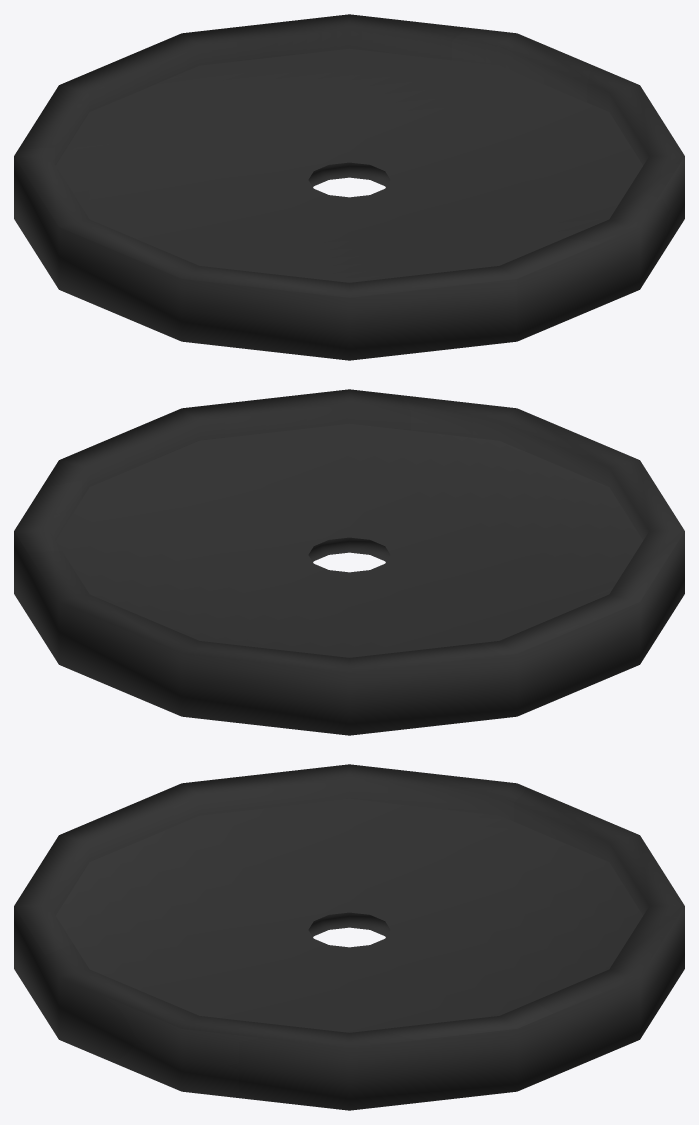
The model's file is BarbellPlateSingle.glb.
The picture shows the model from 3 angles, top to bottom: view 1: azimuth 30°, elevation 25°; view 2: azimuth 150°, elevation 25°; view 3: azimuth 270°, elevation 25°; orthographic projection.
Parts seen in each view (by area): view 1: BarbellPlateSingle; view 2: BarbellPlateSingle; view 3: BarbellPlateSingle.
Part boxes in pixels (x1,y1,x2,y2): BarbellPlateSingle: [14, 14, 684, 360]; BarbellPlateSingle: [14, 389, 684, 735]; BarbellPlateSingle: [14, 764, 684, 1110].
Bounding box in the file's own units: 0.5883 × 0.0607 × 0.5883.
1 material, 1 textured.
